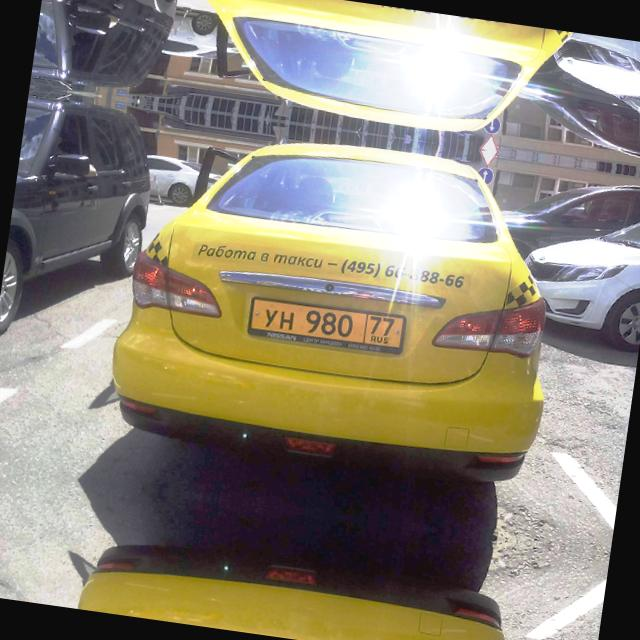taxi: (239, 284, 416, 366)
